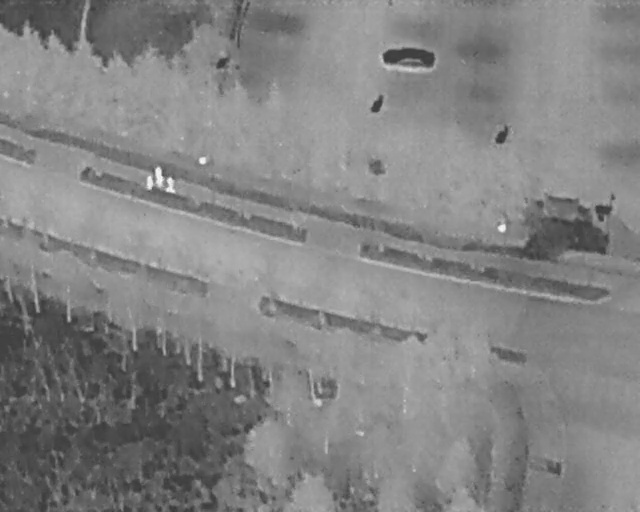Car: (523, 190, 615, 256), (382, 44, 438, 71)
Person: (164, 176, 177, 194), (154, 164, 162, 188), (146, 176, 153, 192)
